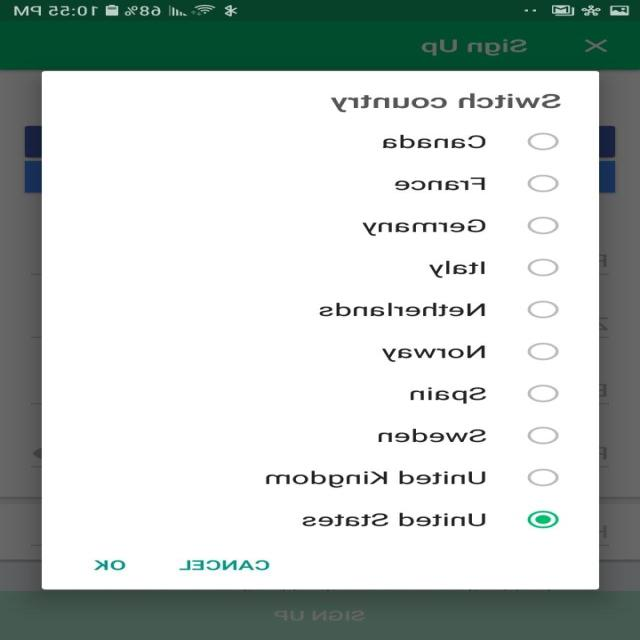Modal: (41, 70, 600, 590)
Text: (330, 92, 562, 112), (266, 470, 487, 488), (302, 512, 486, 527), (319, 302, 486, 316), (363, 218, 486, 236), (382, 345, 486, 362), (379, 428, 487, 443), (382, 134, 486, 148), (410, 387, 488, 404), (394, 177, 486, 190), (430, 260, 486, 278), (180, 560, 270, 570), (94, 559, 127, 570)
